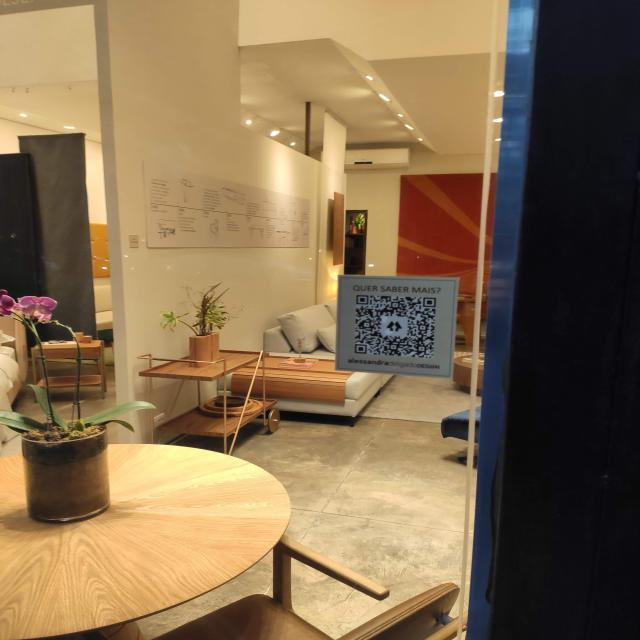qrcode: (354, 296, 437, 360)
